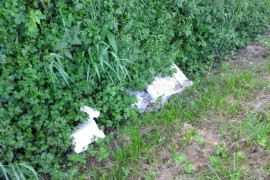trash: (51, 52, 199, 150)
